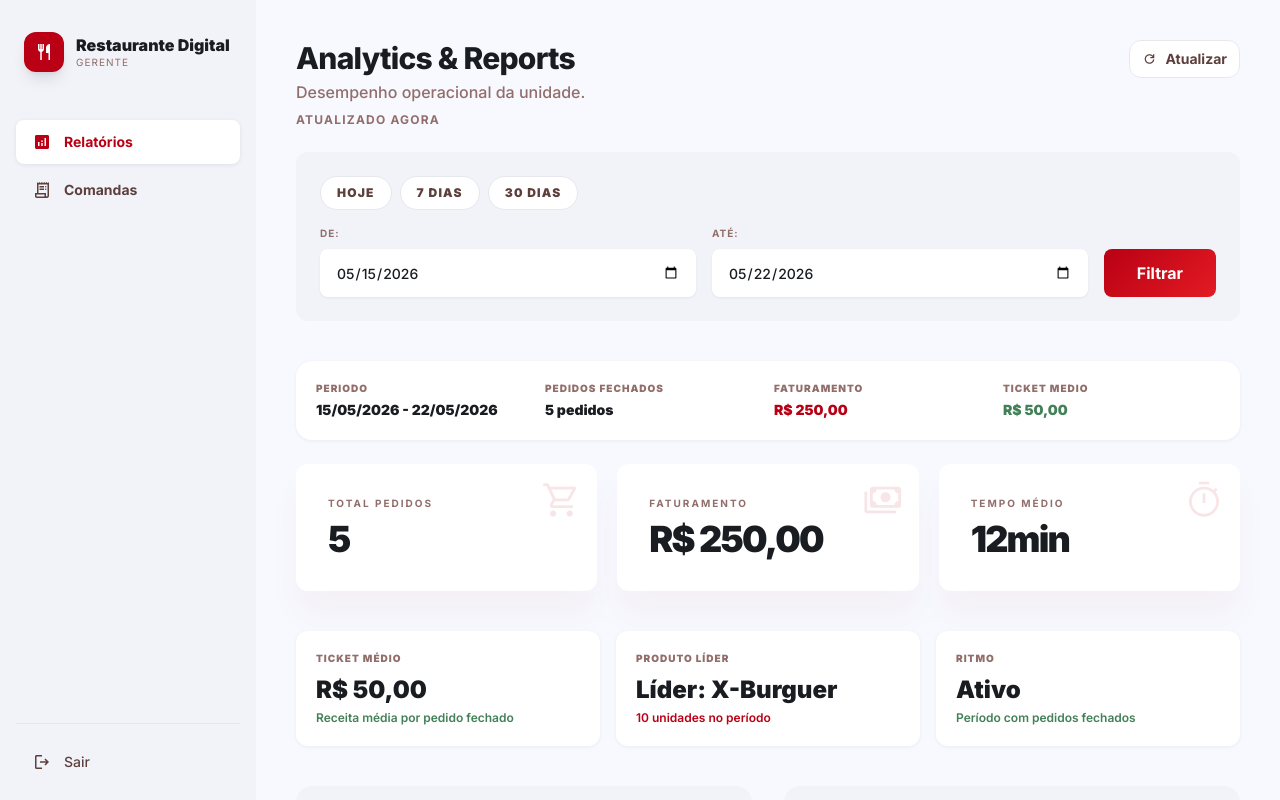
GerentePage › exibe mensagem vazia quando não há comandas
Expected: the text "5" is shown, top-left (328, 519), bottom-right (350, 559)
Click the button "Comandas": (128, 190) top-left (16, 168), bottom-right (240, 212)
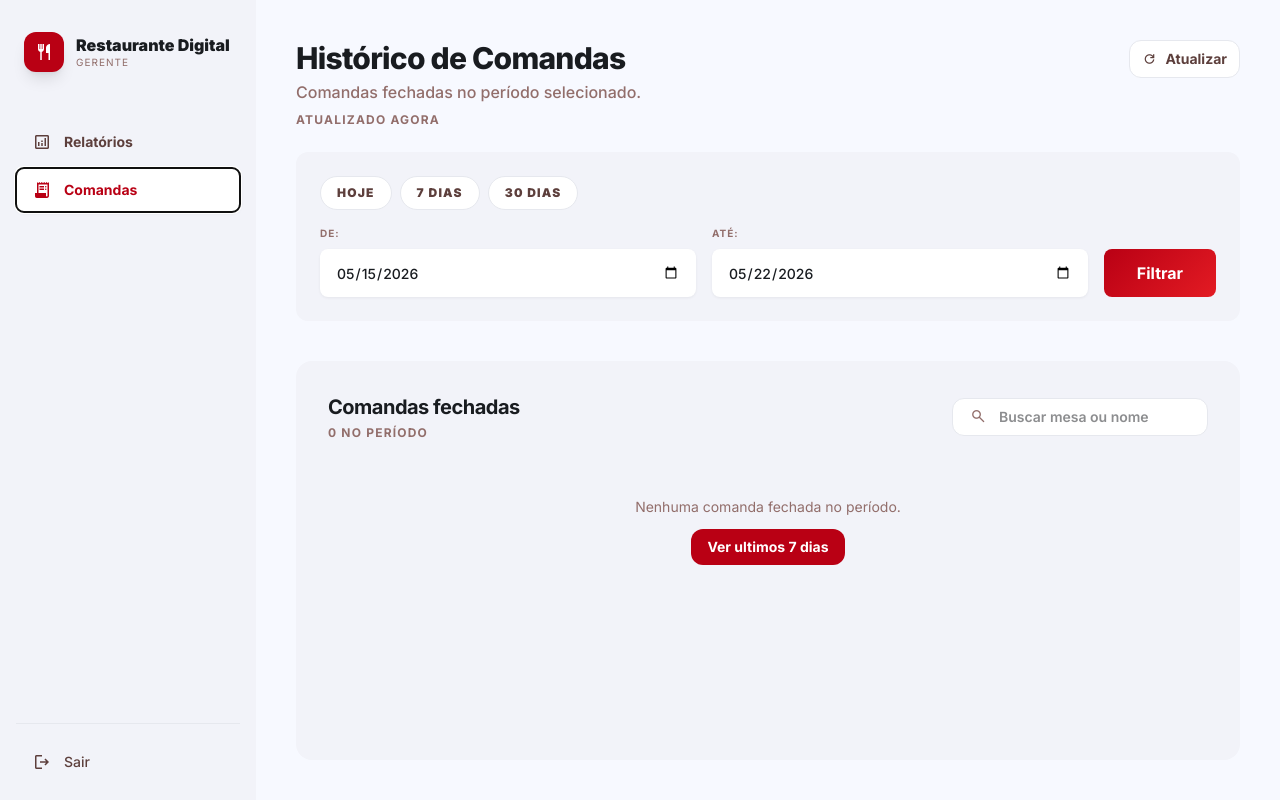
Expected: the text "Nenhuma comanda fechada no período." is shown, top-left (635, 498), bottom-right (901, 515)
